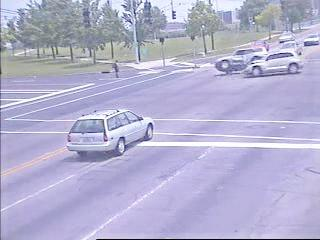Car: (67, 106, 155, 155), (247, 52, 302, 74), (215, 48, 268, 70), (278, 43, 304, 55), (303, 32, 319, 47), (280, 31, 296, 43), (250, 41, 271, 49)
Major Accident: (213, 44, 304, 77)
